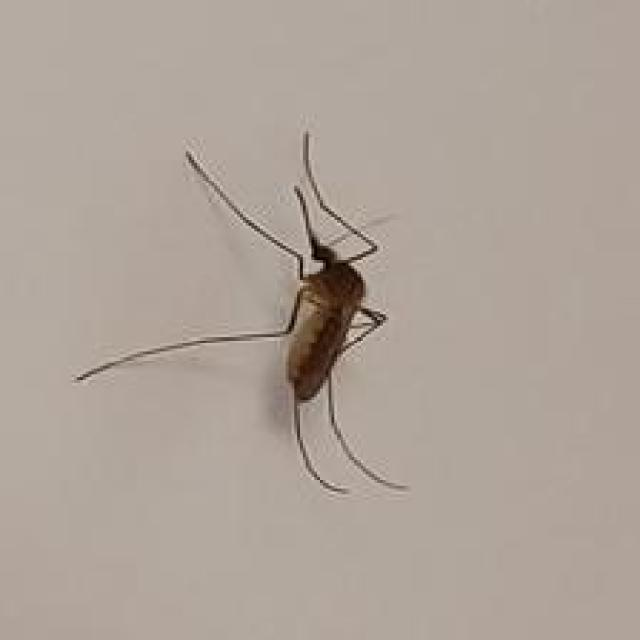Culex: (74, 129, 412, 497)
